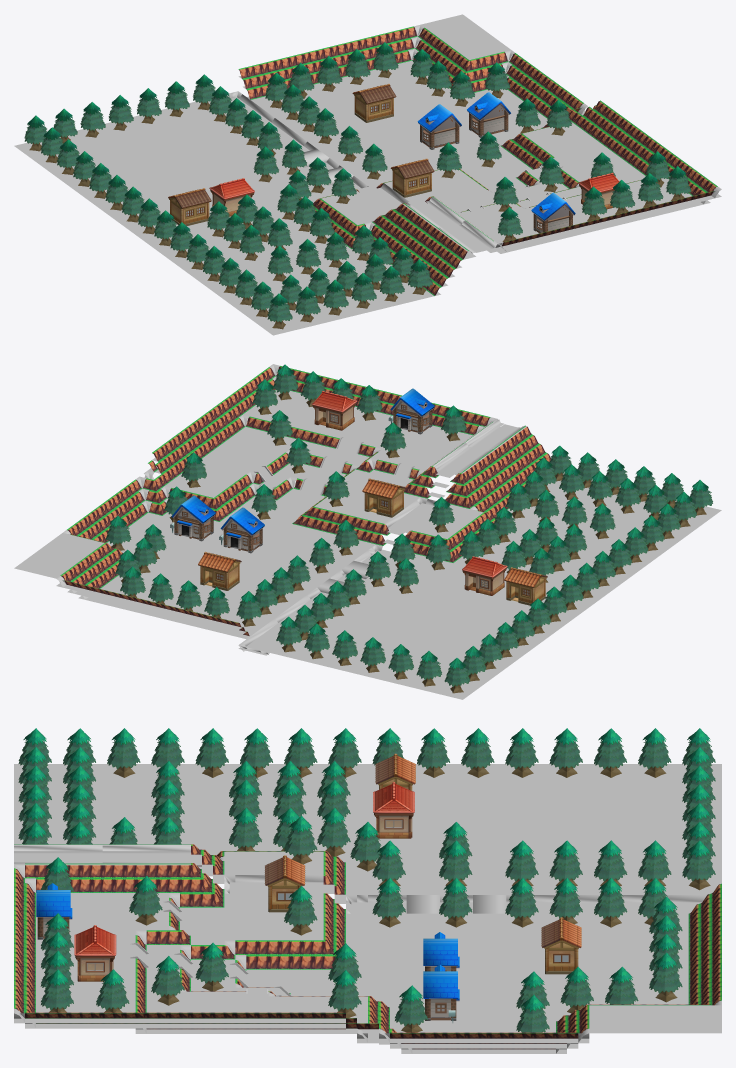
File: Initia Town Test 1.fbx
3 renders of one model, top to bottom at view 1: azimuth 30°, elevation 25°; view 2: azimuth 150°, elevation 25°; view 3: azimuth 270°, elevation 25°, orthographic. The views are drawn at different scales.
Visible parts, largest first — view 1: map; view 2: map; view 3: map.
Boxes of the visible parts, box(x1,y1,x2,y2) form: map: box(14, 14, 721, 335); map: box(14, 364, 721, 699); map: box(14, 728, 721, 1053).
Size of the model in its own units: 6400 by 6400 by 827.
